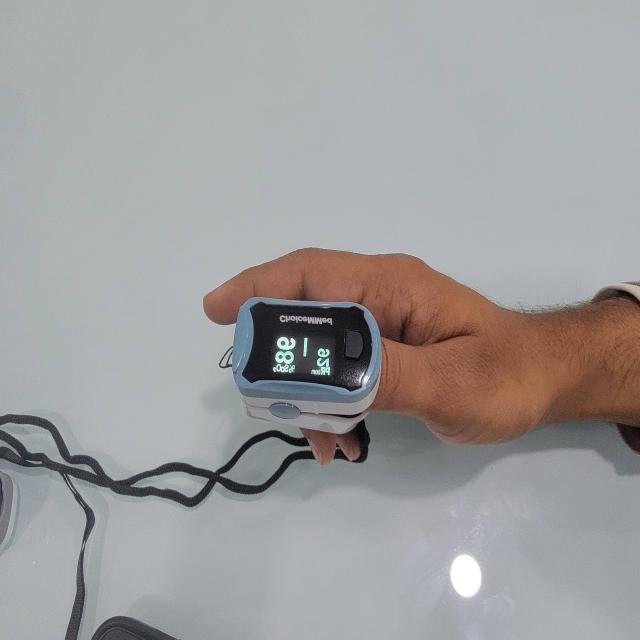spo2: (224, 298, 383, 422)
